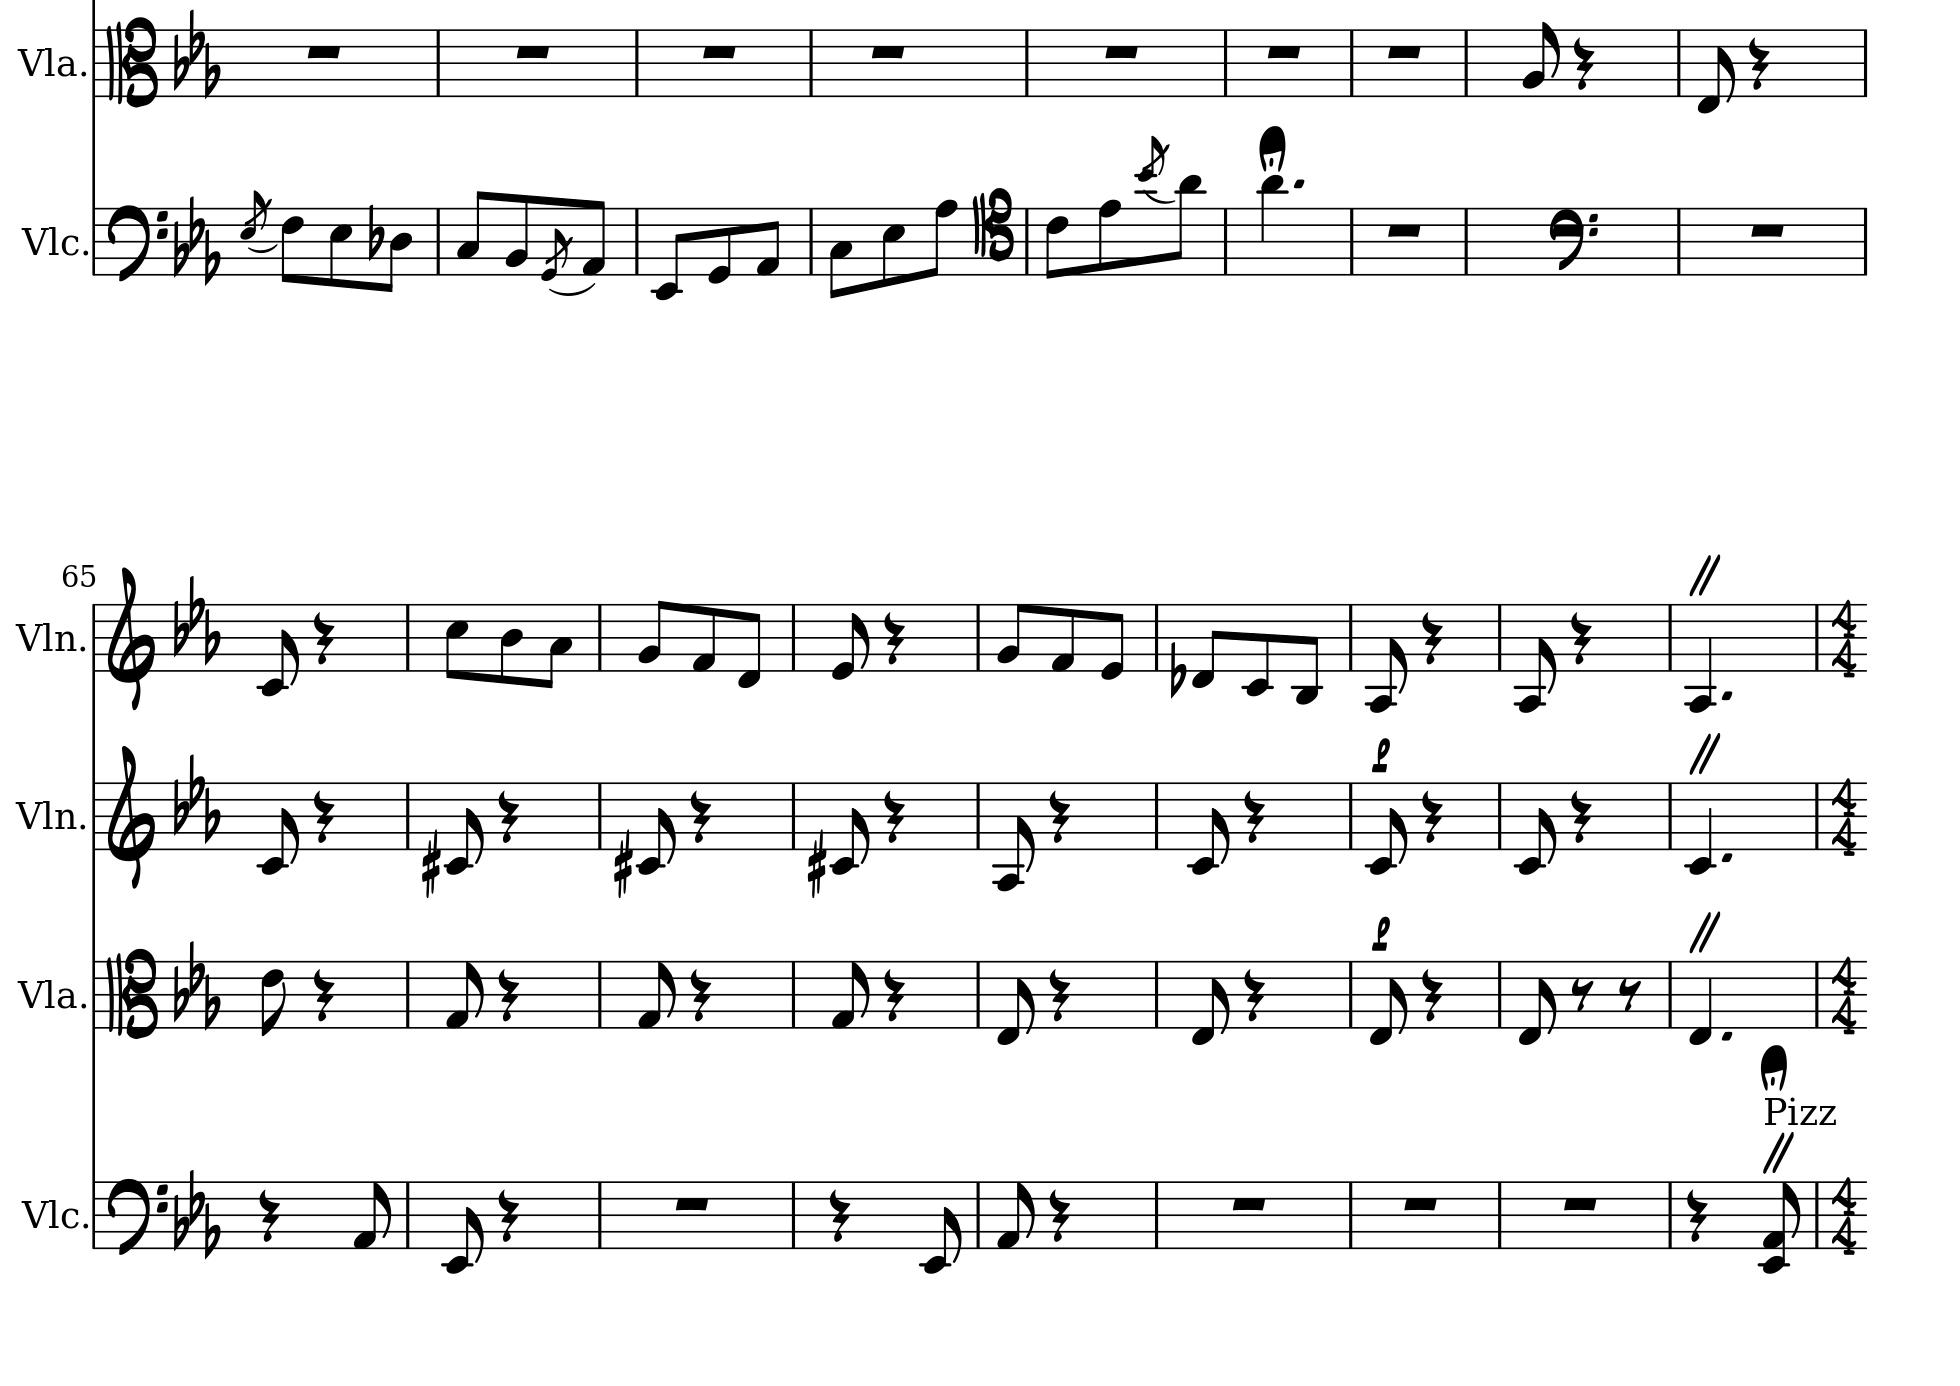4: (1830, 814, 1861, 856), (1830, 637, 1861, 678), (1830, 994, 1861, 1035), (1830, 1174, 1861, 1215), (1830, 1215, 1861, 1255), (1830, 598, 1860, 637), (1830, 777, 1860, 816), (1830, 955, 1860, 994)
4_-1: (1687, 958, 1714, 1047)
4_-2: (1686, 778, 1716, 876)
4_-4: (1686, 601, 1717, 714)
4_11: (1257, 174, 1287, 277)
5: (79, 561, 96, 589)
6: (61, 561, 79, 589)
8_-1: (1518, 958, 1558, 1047), (996, 958, 1036, 1045), (1191, 958, 1231, 1045), (1369, 960, 1408, 1047), (1698, 28, 1735, 114), (1191, 601, 1224, 690), (735, 601, 763, 690)
8_-2: (256, 601, 300, 697), (1188, 780, 1231, 876), (1515, 780, 1558, 876), (442, 1179, 486, 1273), (919, 1179, 963, 1273), (258, 780, 300, 876), (1366, 781, 1408, 877), (829, 780, 871, 874), (444, 780, 484, 874), (636, 781, 676, 874), (651, 205, 687, 301), (1242, 601, 1272, 697)
8_-2_1: (1756, 1180, 1806, 1272)
8_-3: (1293, 601, 1323, 706)
8_-4: (994, 780, 1035, 892), (1368, 601, 1408, 712), (1518, 601, 1557, 714)
8_0: (829, 603, 870, 682), (706, 205, 733, 286), (1099, 601, 1126, 682)
8_1: (634, 960, 678, 1030), (829, 960, 871, 1030), (444, 958, 484, 1030), (351, 1180, 391, 1251), (996, 1180, 1036, 1251), (580, 198, 607, 279), (688, 601, 718, 673), (1048, 601, 1077, 675), (754, 205, 781, 279)
8_11: (1167, 172, 1203, 277)
8_2: (1521, 21, 1560, 97), (996, 601, 1029, 673), (637, 598, 669, 673), (504, 193, 529, 277)
8_3: (454, 189, 490, 277), (538, 601, 574, 690), (826, 205, 853, 300)
8_4: (379, 205, 414, 295), (498, 601, 523, 685)
8_5: (328, 205, 354, 289), (880, 205, 906, 289), (444, 601, 469, 682)
8_6: (259, 958, 288, 1038), (280, 205, 304, 286), (1044, 205, 1069, 280)
8_8: (925, 196, 958, 280), (1096, 196, 1122, 277)
A_F: (169, 1165, 220, 1257), (171, 937, 220, 1027), (171, 193, 220, 277)
Acciaccature: (1135, 132, 1170, 279), (537, 208, 573, 286), (238, 187, 268, 276)
Caesura: (1686, 553, 1722, 595), (1689, 732, 1723, 775), (1689, 912, 1723, 952), (1761, 1132, 1795, 1171)
Cclef: (103, 15, 157, 109), (103, 946, 157, 1039)
E_F: (171, 573, 220, 664), (172, 751, 220, 843), (171, 7, 220, 96)
Fclef: (105, 201, 169, 286), (105, 1174, 169, 1258), (1548, 205, 1600, 277)
Flat: (1167, 640, 1188, 700), (366, 201, 385, 259)
Gclef: (105, 564, 157, 711), (105, 742, 156, 889)
Rests1: (1746, 220, 1789, 241), (1383, 40, 1425, 61), (670, 1192, 712, 1213), (1228, 1192, 1270, 1213), (1399, 1192, 1441, 1213), (1560, 1192, 1602, 1213), (699, 40, 739, 61), (1383, 220, 1426, 240), (511, 40, 553, 60), (1101, 42, 1143, 61), (1263, 42, 1305, 61), (303, 40, 343, 60), (867, 40, 907, 60)
Rests4: (880, 609, 906, 666), (1419, 787, 1444, 844), (310, 966, 336, 1023), (880, 966, 906, 1023), (1419, 966, 1444, 1023), (688, 787, 712, 846), (1569, 786, 1593, 844), (1572, 34, 1596, 91), (1746, 34, 1770, 91), (1569, 609, 1593, 666), (310, 787, 334, 844), (496, 787, 520, 844), (882, 787, 906, 844), (1047, 787, 1071, 844), (1242, 787, 1266, 844), (496, 966, 520, 1023), (688, 966, 712, 1023), (1047, 966, 1071, 1023), (1242, 966, 1266, 1023), (256, 1186, 280, 1243), (496, 1186, 520, 1243), (826, 1186, 850, 1243), (1047, 1186, 1071, 1243), (312, 609, 334, 667), (1420, 609, 1443, 666), (1686, 1186, 1708, 1243)
Rests8: (1569, 976, 1596, 1012), (1617, 976, 1644, 1011)
Sharp: (420, 831, 442, 898), (612, 832, 634, 898), (805, 829, 826, 898)
Single_barline: (1809, 601, 1827, 670), (1344, 207, 1362, 274), (1491, 603, 1509, 670), (591, 781, 609, 849), (1662, 1180, 1680, 1248), (784, 781, 802, 847), (1491, 781, 1509, 847), (784, 961, 802, 1027), (969, 1180, 987, 1246), (1491, 1180, 1509, 1246), (1662, 783, 1680, 847), (628, 28, 645, 96), (802, 28, 819, 96), (1671, 28, 1687, 96), (1857, 28, 1873, 96), (802, 207, 819, 274), (1458, 207, 1474, 274), (970, 601, 987, 669), (784, 603, 801, 670), (1149, 603, 1165, 670), (399, 781, 415, 849), (1149, 781, 1165, 849), (591, 960, 607, 1027), (1344, 28, 1360, 94), (1458, 28, 1474, 94), (1857, 208, 1873, 274), (399, 604, 415, 670), (970, 781, 987, 847), (399, 961, 415, 1027), (970, 961, 987, 1027), (1491, 961, 1507, 1027), (1662, 961, 1678, 1027), (399, 1180, 415, 1246), (784, 1180, 801, 1246), (1809, 1179, 1824, 1249), (430, 205, 445, 274), (628, 205, 643, 274), (87, 28, 102, 96), (430, 28, 445, 96), (1020, 207, 1035, 274), (592, 603, 607, 670), (87, 1180, 102, 1248), (1149, 1180, 1164, 1248), (1344, 1180, 1359, 1248), (1218, 28, 1233, 94), (87, 208, 102, 274), (1671, 208, 1686, 274), (1344, 604, 1359, 670), (1149, 961, 1164, 1027), (1344, 961, 1359, 1027), (592, 1180, 607, 1246), (1020, 30, 1035, 94), (1344, 783, 1359, 847), (1218, 208, 1233, 271), (87, 781, 100, 850), (87, 603, 100, 670), (87, 960, 100, 1027), (1810, 961, 1824, 1027)
Slur: (547, 280, 597, 295), (1143, 187, 1176, 205), (244, 241, 280, 253)
Tensor_Cclef: (970, 186, 1015, 277)
TimeSig: (1830, 598, 1860, 678), (1830, 777, 1860, 856), (1830, 955, 1860, 1035), (1830, 1177, 1860, 1255)
Vla: (16, 40, 78, 85), (16, 972, 78, 1017)
Vlc: (19, 219, 79, 261), (19, 1192, 79, 1234)
Vln: (16, 793, 76, 835), (16, 616, 76, 655)
dot: (1719, 685, 1737, 703), (1290, 175, 1308, 192), (1719, 847, 1735, 864), (1719, 1027, 1734, 1042)
p: (1371, 736, 1393, 772), (1371, 915, 1393, 951)
